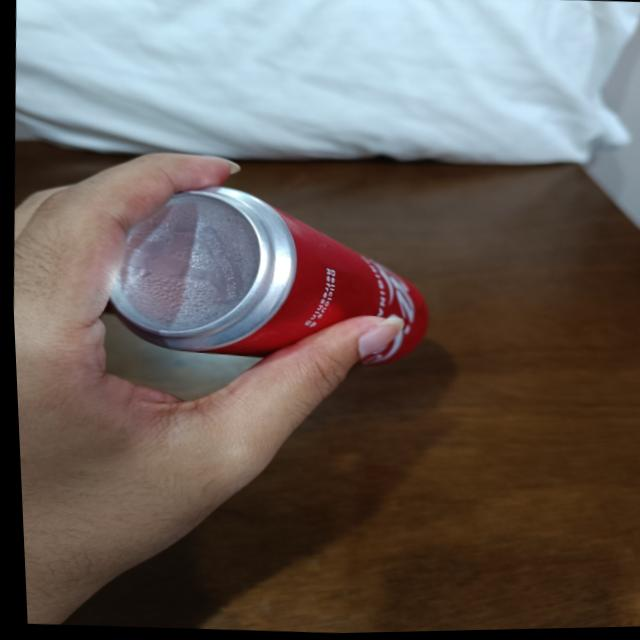coke: (93, 173, 432, 373)
